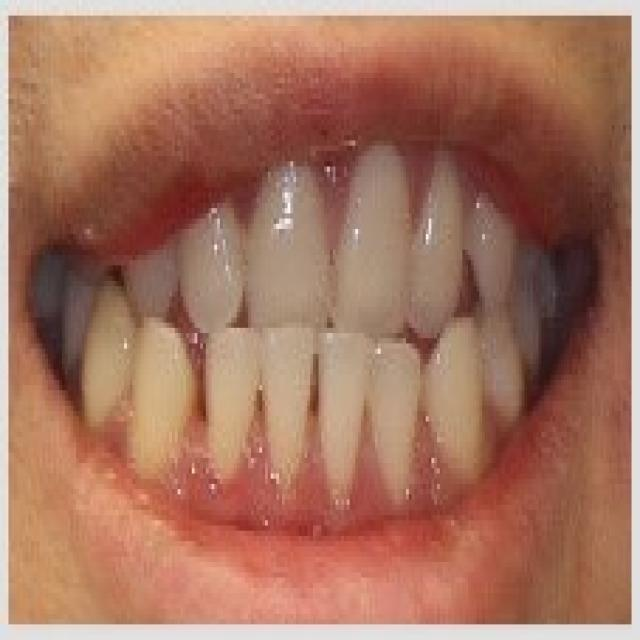tooth: (333, 146, 417, 333), (240, 198, 330, 328), (423, 333, 490, 494), (412, 156, 471, 328), (198, 333, 260, 489), (372, 354, 423, 510), (144, 312, 194, 463), (195, 208, 245, 349), (268, 338, 316, 479), (85, 296, 135, 426), (324, 359, 361, 494), (118, 260, 186, 323)
